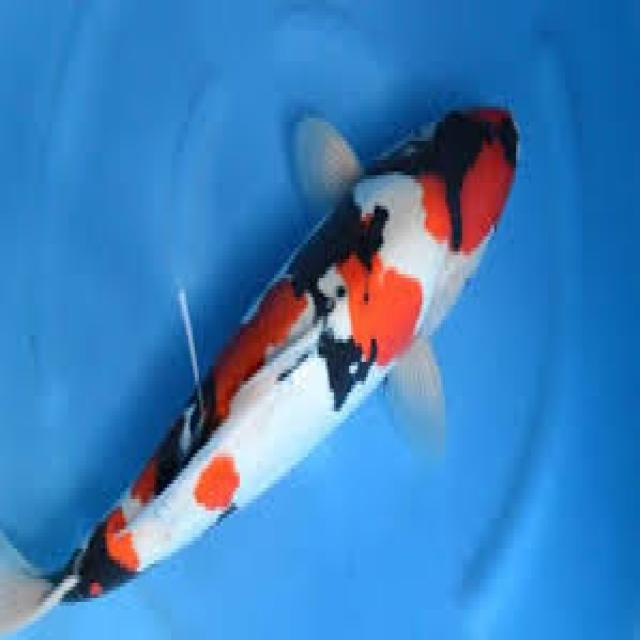Showa: (0, 95, 518, 636)
